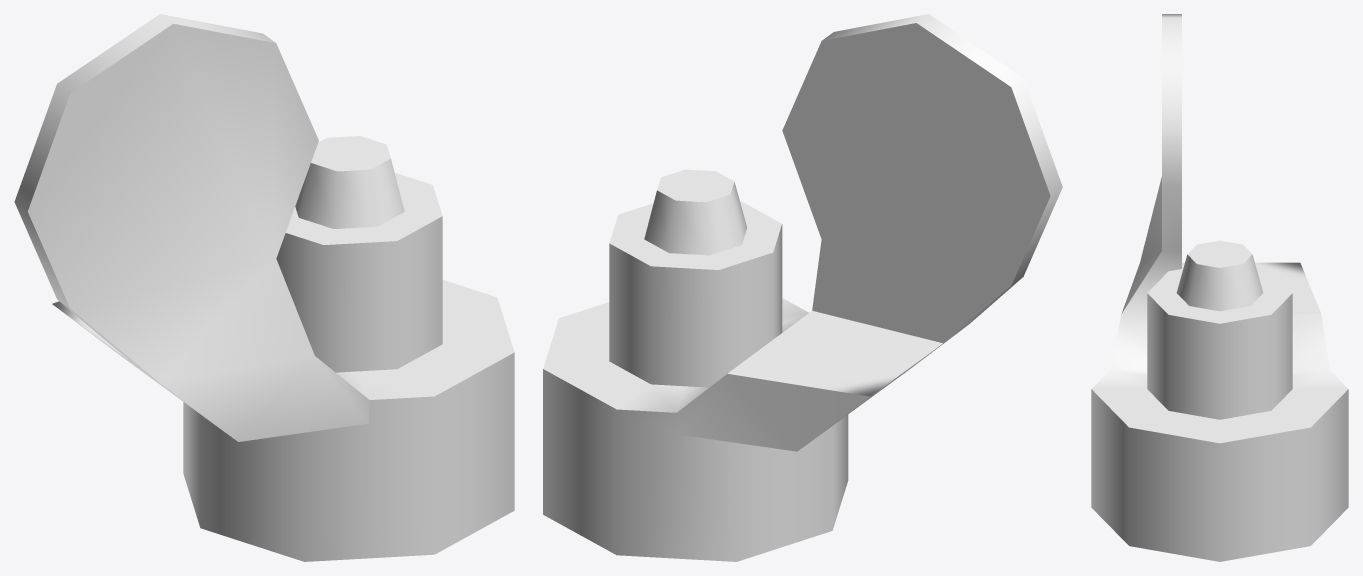
The model's file is neckj2.dae.
3 renders of one model, left to right at view 1: azimuth 30°, elevation 25°; view 2: azimuth 150°, elevation 25°; view 3: azimuth 270°, elevation 25°, orthographic. The views are drawn at different scales.
Parts seen in each view (by area): view 1: Cylinder; view 2: Cylinder; view 3: Cylinder.
Boxes of the visible parts, x1,y1,x2,y2 form: Cylinder: (14, 14, 514, 561); Cylinder: (543, 14, 1062, 561); Cylinder: (1091, 14, 1348, 561).
Size of the model in its own units: 0.1438 by 0.084 by 0.1484.
Materials: 1 (1 with a texture image).
